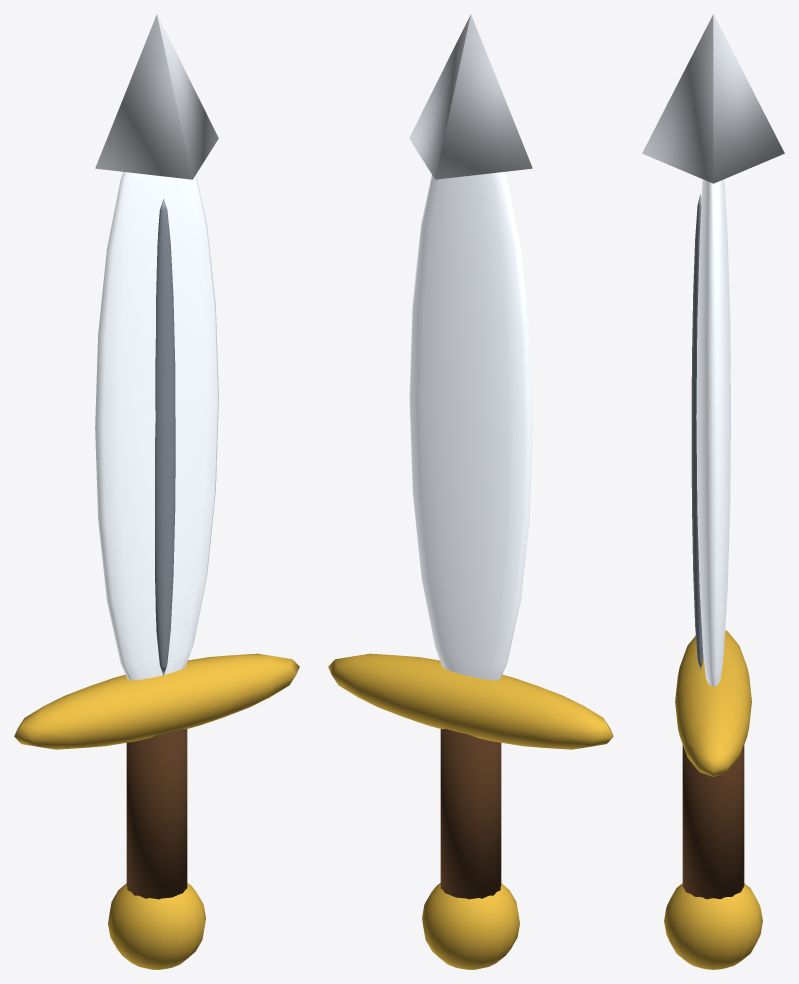
File: sword.glb
3 views of the same model, side by side, from view 1: azimuth 30°, elevation 25°; view 2: azimuth 150°, elevation 25°; view 3: azimuth 270°, elevation 25° (orthographic).
Visible parts, largest first — view 1: blade, guard, tip, grip, fuller, pommel; view 2: blade, guard, tip, grip, pommel; view 3: blade, tip, grip, guard, pommel, fuller.
Part boxes in pixels (left/top/right/bottom): blade: left=95, top=172, right=218, bottom=680; guard: left=14, top=653, right=299, bottom=749; tip: left=95, top=14, right=218, bottom=179; grip: left=126, top=728, right=187, bottom=899; fuller: left=155, top=199, right=175, bottom=675; pommel: left=108, top=883, right=205, bottom=969; blade: left=409, top=172, right=532, bottom=680; guard: left=328, top=653, right=613, bottom=749; tip: left=409, top=14, right=532, bottom=179; grip: left=440, top=728, right=501, bottom=899; pommel: left=422, top=883, right=519, bottom=969; blade: left=696, top=179, right=730, bottom=686; tip: left=642, top=14, right=784, bottom=183; grip: left=682, top=745, right=744, bottom=899; guard: left=675, top=630, right=751, bottom=776; pommel: left=664, top=883, right=762, bottom=969; fuller: left=691, top=194, right=703, bottom=670.
Bounding box in the file's own units: 0.3 × 0.955 × 0.13.
